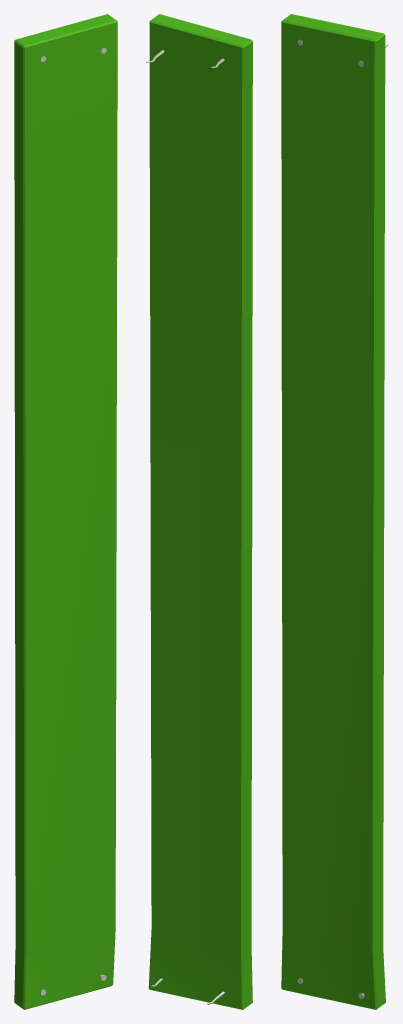
Rendered from plywood_set_4.FBX.
The picture shows the model from 3 angles, left to right: view 1: azimuth 30°, elevation 25°; view 2: azimuth 150°, elevation 25°; view 3: azimuth 330°, elevation 25°; orthographic projection.
Parts seen in each view (by area): view 1: plywood__set_rc_4; view 2: plywood__set_rc_4; view 3: plywood__set_rc_4.
Part boxes in pixels (bbox=[...]): plywood__set_rc_4: bbox=[14, 14, 117, 1009]; plywood__set_rc_4: bbox=[146, 14, 252, 1009]; plywood__set_rc_4: bbox=[281, 14, 388, 1009].
Size of the model in its own units: 10.21 by 99.6 by 4.95.
